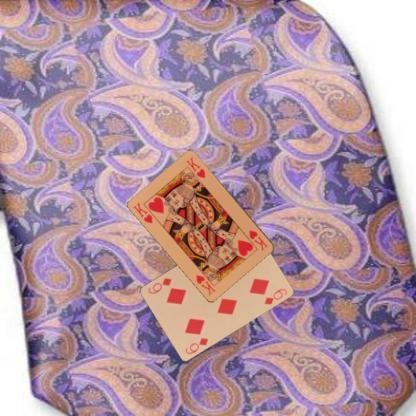6d: (182, 335, 210, 355)
Kh: (130, 200, 154, 225), (247, 228, 270, 252)
